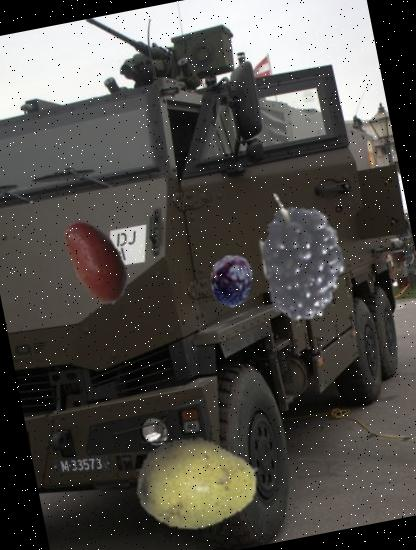Dates: (201, 250, 262, 311)
Mulberry: (229, 176, 386, 332)
Pear: (125, 411, 270, 550)
Potato: (42, 207, 150, 315)
